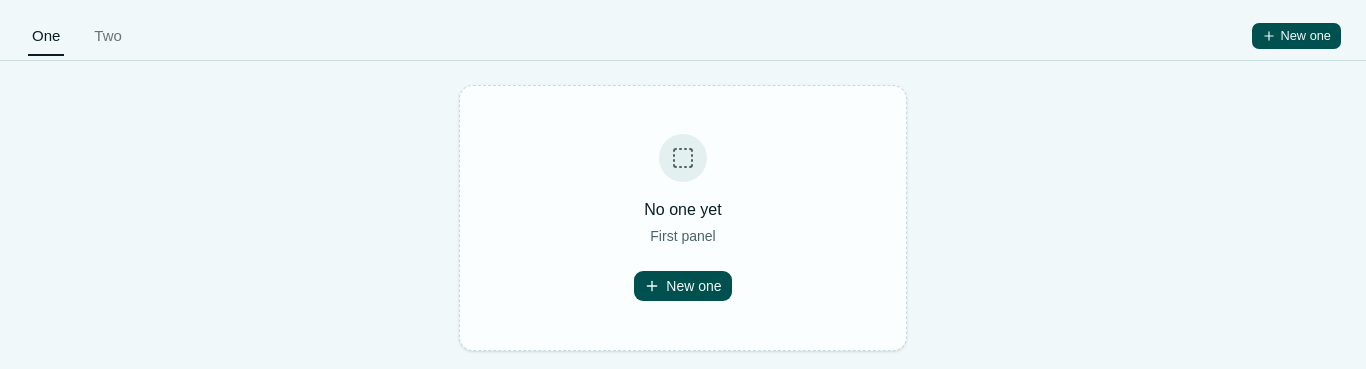
Test: PageTabs › shows the first tab panel by default and switches on click
Expected: the tab "One" is shown, [27,15,65,57]
Expected: the text "First panel" is shown, [650,226,716,246]
Click the tab "Two": (108, 36) [89,15,127,57]
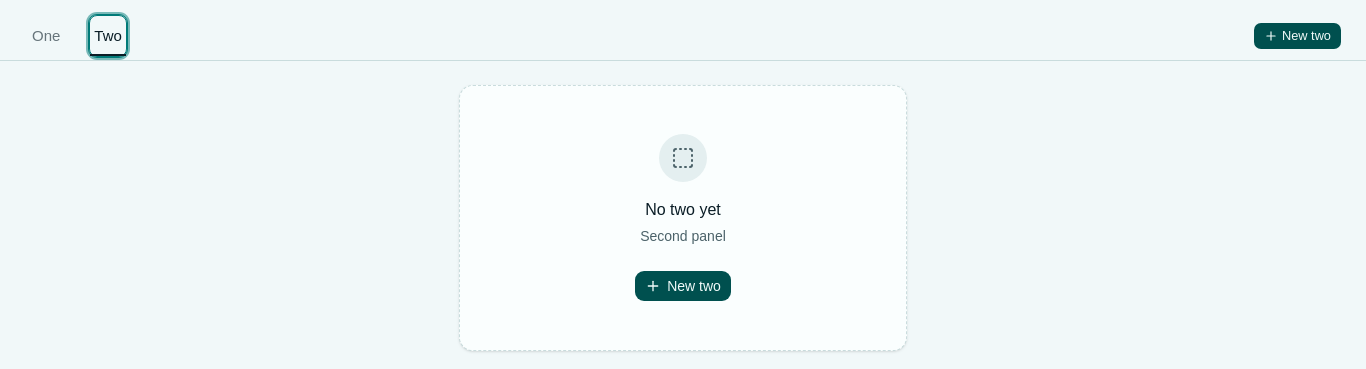
Expected: the text "Second panel" is shown, [640,226,726,246]
Expected: the text "First panel" is gone
